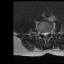CCS_normal: (44, 30, 46, 38)
LFS_normal: (48, 29, 50, 36)
LLS_normal: (46, 30, 48, 37)
RFS_normal: (40, 29, 42, 36)
RLS_normal: (42, 30, 44, 37)
